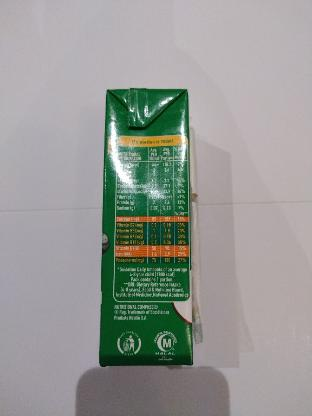Others: (96, 87, 202, 367)
